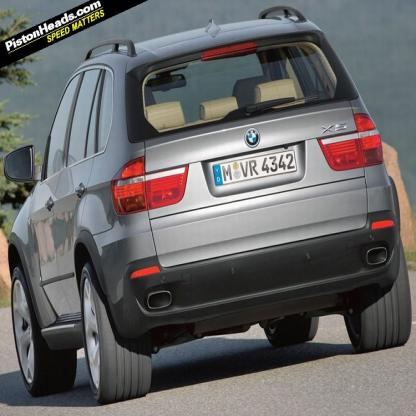Vehicle: (6, 6, 414, 410)
